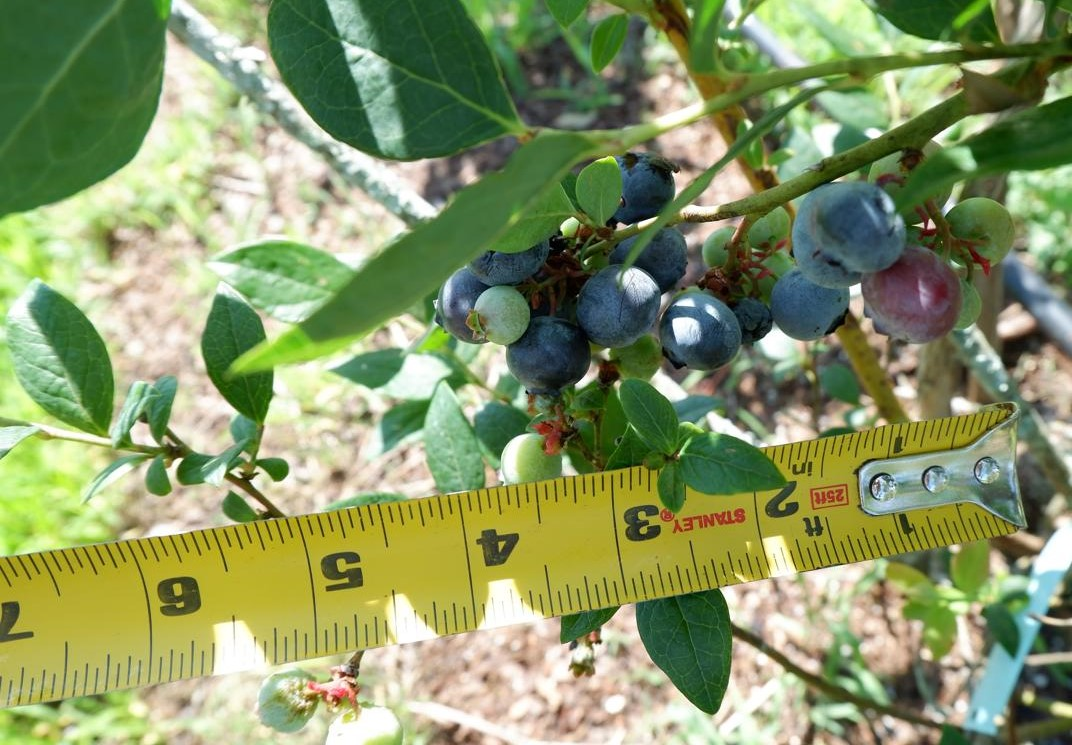Immature: (861, 246, 964, 344), (944, 198, 1014, 269), (465, 286, 530, 345), (740, 248, 798, 306), (502, 432, 562, 484), (746, 204, 790, 249), (704, 226, 751, 266), (951, 277, 982, 331)
Mature: (814, 181, 908, 276), (793, 181, 862, 287), (577, 264, 660, 348), (506, 316, 590, 394), (659, 292, 741, 370), (768, 266, 850, 340), (608, 224, 688, 296), (614, 151, 679, 224), (433, 266, 492, 344), (468, 235, 549, 286), (729, 294, 772, 344)
